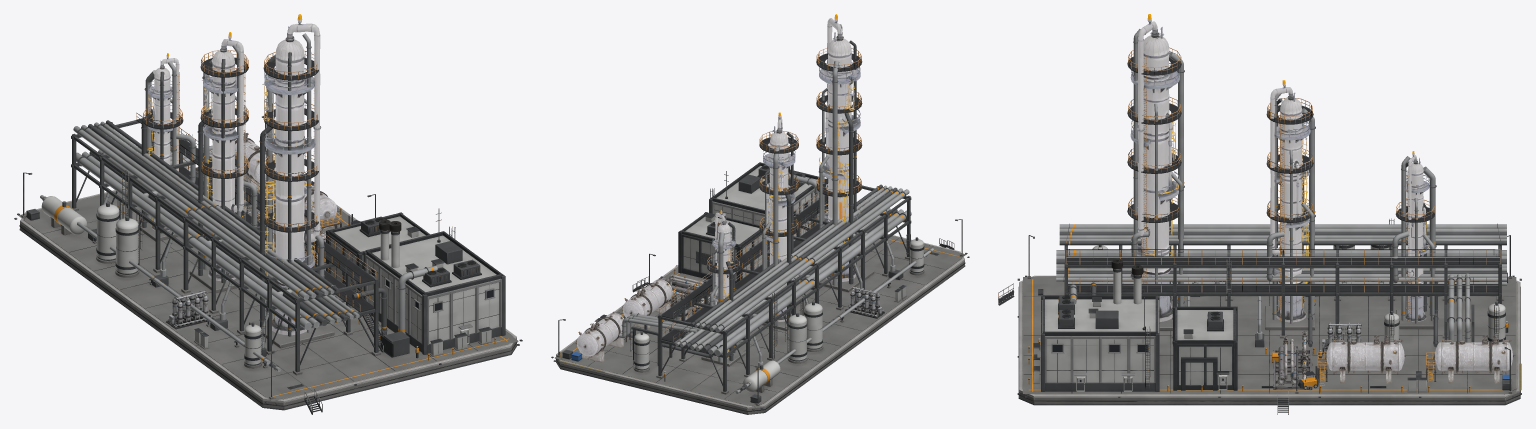
Rendered from refinery.glb.
The picture shows the model from 3 angles, left to right: view 1: azimuth 30°, elevation 25°; view 2: azimuth 150°, elevation 25°; view 3: azimuth 270°, elevation 25°; orthographic projection. The views are drawn at different scales.
Visible parts, largest first — view 1: hull, parts_colony-distColumn, parts_colony-htankSkid, parts_colony-filterBank; view 2: hull, parts_colony-distColumn, parts_colony-htankSkid, parts_colony-filterBank, parts_colony-manifoldSkid; view 3: hull, parts_colony-distColumn, parts_colony-htankSkid, parts_colony-manifoldSkid, parts_colony-filterBank.
Part boxes in pixels (<box>): hull: <box>14,33,522,414</box>; parts_colony-distColumn: <box>147,14,321,335</box>; parts_colony-htankSkid: <box>235,130,341,233</box>; parts_colony-filterBank: <box>166,209,274,329</box>; hull: <box>551,24,969,414</box>; parts_colony-distColumn: <box>712,14,860,358</box>; parts_colony-htankSkid: <box>577,278,676,362</box>; parts_colony-filterBank: <box>692,287,884,318</box>; parts_colony-manifoldSkid: <box>660,274,711,308</box>; hull: <box>998,29,1521,414</box>; parts_colony-distColumn: <box>1130,14,1429,322</box>; parts_colony-htankSkid: <box>1317,335,1513,383</box>; parts_colony-manifoldSkid: <box>1273,331,1312,389</box>; parts_colony-filterBank: <box>1213,281,1364,353</box>.
Bounding box in the file's own units: 45.28 × 51.77 × 77.28.
8 materials, 8 textured.
